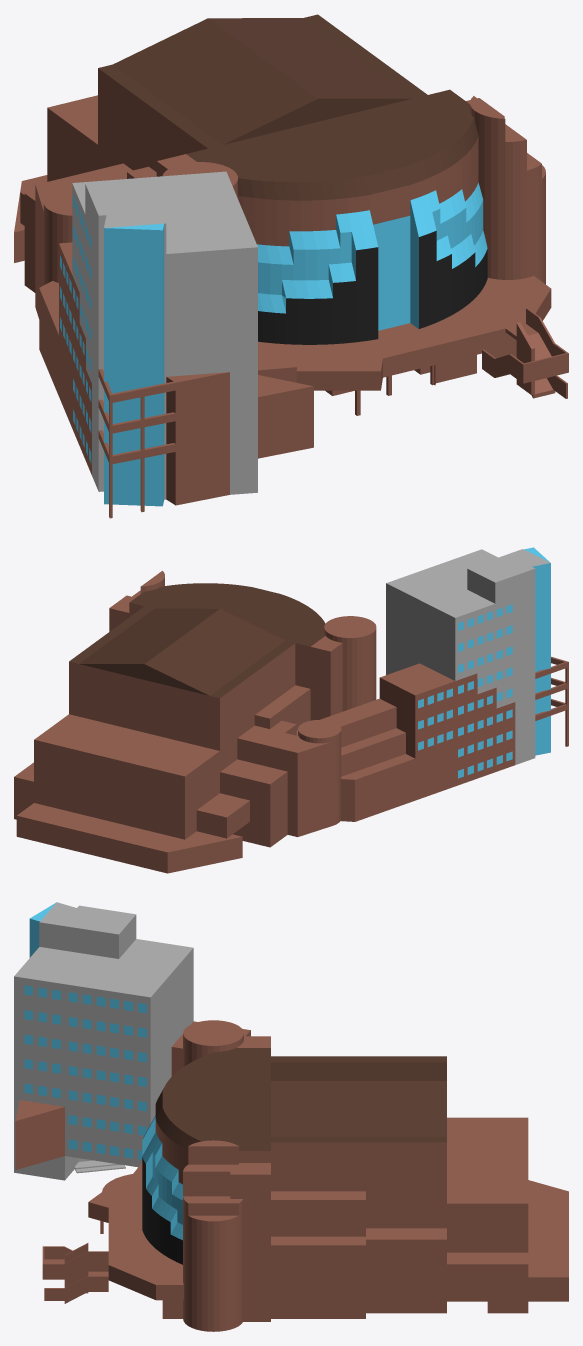
File: DongHae.glb
The picture shows the model from 3 angles, top to bottom: view 1: azimuth 30°, elevation 25°; view 2: azimuth 150°, elevation 25°; view 3: azimuth 270°, elevation 25°; orthographic projection. The views are drawn at different scales.
Visible parts, largest first — view 1: Red Main, Roof, Window, White, Red, Dark; view 2: Red Main, Red, White, Roof, Window; view 3: Red Main, White, Roof, Window, Red, Dark.
Part boxes in pixels (box(x1,y1,x2,y2)): Red Main: box(14, 68, 568, 415); Roof: box(98, 14, 478, 200); Window: box(60, 182, 487, 506); White: box(72, 171, 257, 499); Red: box(39, 242, 313, 518); Dark: box(258, 230, 487, 344); Red Main: box(14, 571, 376, 873); Red: box(320, 656, 568, 821); White: box(386, 549, 550, 764); Roof: box(69, 583, 325, 698); Window: box(418, 547, 550, 778); Red Main: box(42, 1020, 568, 1331); White: box(14, 902, 193, 1180); Roof: box(155, 1047, 446, 1150); Window: box(24, 902, 182, 1240); Red: box(15, 1021, 250, 1170); Dark: box(142, 1157, 182, 1264).
Size of the model in its own units: 74.38 by 36.5 by 81.98.
